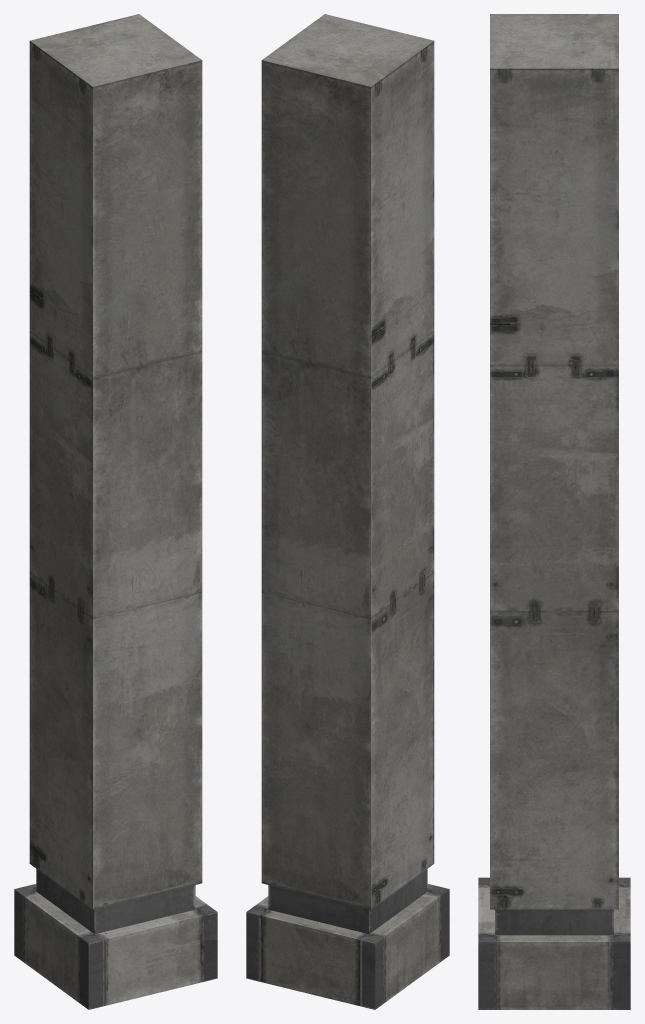
File: CP_Column_Concrete_B_01.fbx
The picture shows the model from 3 angles, left to right: view 1: azimuth 30°, elevation 25°; view 2: azimuth 150°, elevation 25°; view 3: azimuth 270°, elevation 25°; orthographic projection. The views are drawn at different scales.
Visible parts, largest first — view 1: CP_Column_Concrete_B_01; view 2: CP_Column_Concrete_B_01; view 3: CP_Column_Concrete_B_01.
Boxes of the visible parts, left/top/right/bottom form: CP_Column_Concrete_B_01: left=14, top=14, right=217, bottom=1009; CP_Column_Concrete_B_01: left=246, top=14, right=449, bottom=1009; CP_Column_Concrete_B_01: left=478, top=14, right=630, bottom=1009.
Bounding box in the file's own units: 58.9 × 400 × 58.9.
